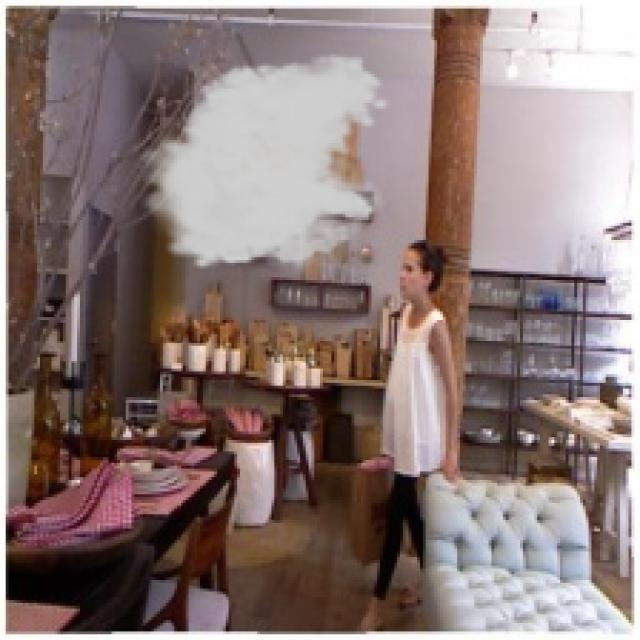Smoke: (132, 51, 392, 283)
